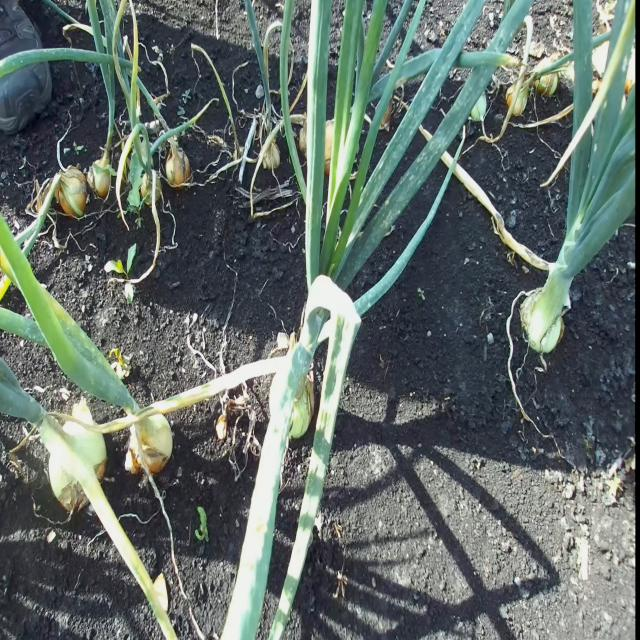onion: (38, 413, 108, 516), (124, 409, 173, 477), (56, 165, 88, 219), (288, 374, 314, 440), (86, 148, 116, 200), (165, 140, 191, 188), (532, 54, 559, 97), (506, 80, 528, 117), (140, 169, 162, 206), (469, 92, 486, 122)
